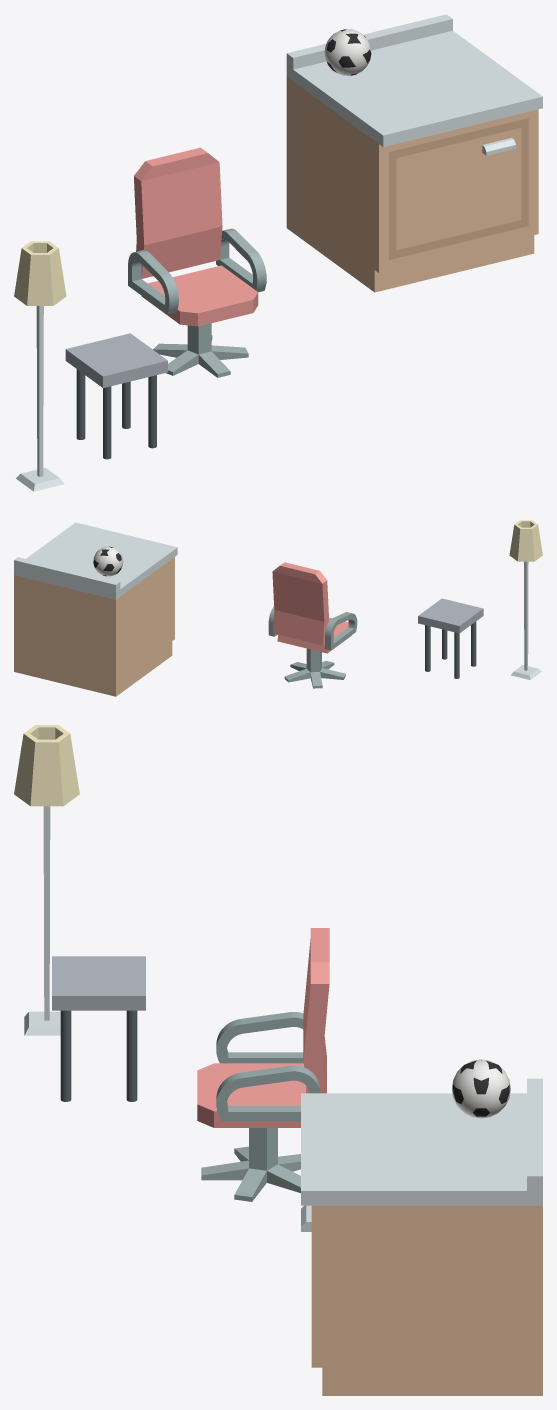
3 renders of one model, top to bottom at view 1: azimuth 30°, elevation 25°; view 2: azimuth 150°, elevation 25°; view 3: azimuth 270°, elevation 25°, orthographic. The views are drawn at different scales.
Parts seen in each view (by area): view 1: cabinet_blue__kitchenCabinet(Clone), deskchair_black__chair, cabinet_blue__door, lamp_white__lampRoundFloor(Clone), stool_purple__stool_purple seat, deskchair_black__chairDesk(Clone), soccer_white__soccer_white, stool_purple__stool_purple leg.001, stool_purple__stool_purple leg, stool_purple__stool_purple leg.002; view 2: cabinet_blue__kitchenCabinet(Clone), deskchair_black__chair, lamp_white__lampRoundFloor(Clone), stool_purple__stool_purple seat, deskchair_black__chairDesk(Clone), soccer_white__soccer_white, stool_purple__stool_purple leg.001, stool_purple__stool_purple leg.003, stool_purple__stool_purple leg; view 3: cabinet_blue__kitchenCabinet(Clone), deskchair_black__chair, lamp_white__lampRoundFloor(Clone), stool_purple__stool_purple seat, deskchair_black__chairDesk(Clone), soccer_white__soccer_white, stool_purple__stool_purple leg.002, stool_purple__stool_purple leg.003.
Boxes of the visible parts, box(x1,y1,x2,y2) form: cabinet_blue__kitchenCabinet(Clone): box(286, 14, 542, 292); deskchair_black__chair: box(128, 147, 266, 326); cabinet_blue__door: box(389, 118, 528, 259); lamp_white__lampRoundFloor(Clone): box(14, 241, 66, 491); stool_purple__stool_purple seat: box(65, 333, 167, 387); deskchair_black__chairDesk(Clone): box(153, 323, 248, 377); soccer_white__soccer_white: box(324, 29, 371, 75); stool_purple__stool_purple leg.001: box(76, 369, 85, 439); stool_purple__stool_purple leg: box(103, 386, 111, 459); stool_purple__stool_purple leg.002: box(148, 375, 156, 448); cabinet_blue__kitchenCabinet(Clone): box(14, 522, 177, 696); deskchair_black__chair: box(268, 562, 357, 653); lamp_white__lampRoundFloor(Clone): box(509, 520, 542, 679); stool_purple__stool_purple seat: box(418, 598, 483, 633); deskchair_black__chairDesk(Clone): box(284, 648, 345, 688); soccer_white__soccer_white: box(93, 546, 123, 576); stool_purple__stool_purple leg.001: box(454, 632, 459, 678); stool_purple__stool_purple leg.003: box(425, 625, 430, 671); stool_purple__stool_purple leg: box(471, 621, 476, 666); cabinet_blue__kitchenCabinet(Clone): box(301, 1078, 542, 1395); deskchair_black__chair: box(197, 928, 329, 1127); lamp_white__lampRoundFloor(Clone): box(14, 725, 79, 1035); stool_purple__stool_purple seat: box(52, 956, 145, 1010); deskchair_black__chairDesk(Clone): box(201, 1128, 300, 1201); soccer_white__soccer_white: box(452, 1059, 510, 1118); stool_purple__stool_purple leg.002: box(60, 1010, 71, 1101); stool_purple__stool_purple leg.003: box(126, 1010, 137, 1101).
Bounding box in the file's own units: 3.36 × 1.2 × 1.97.
